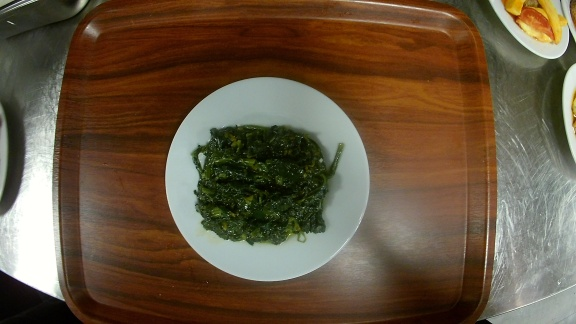ispanak: (163, 76, 371, 282)
